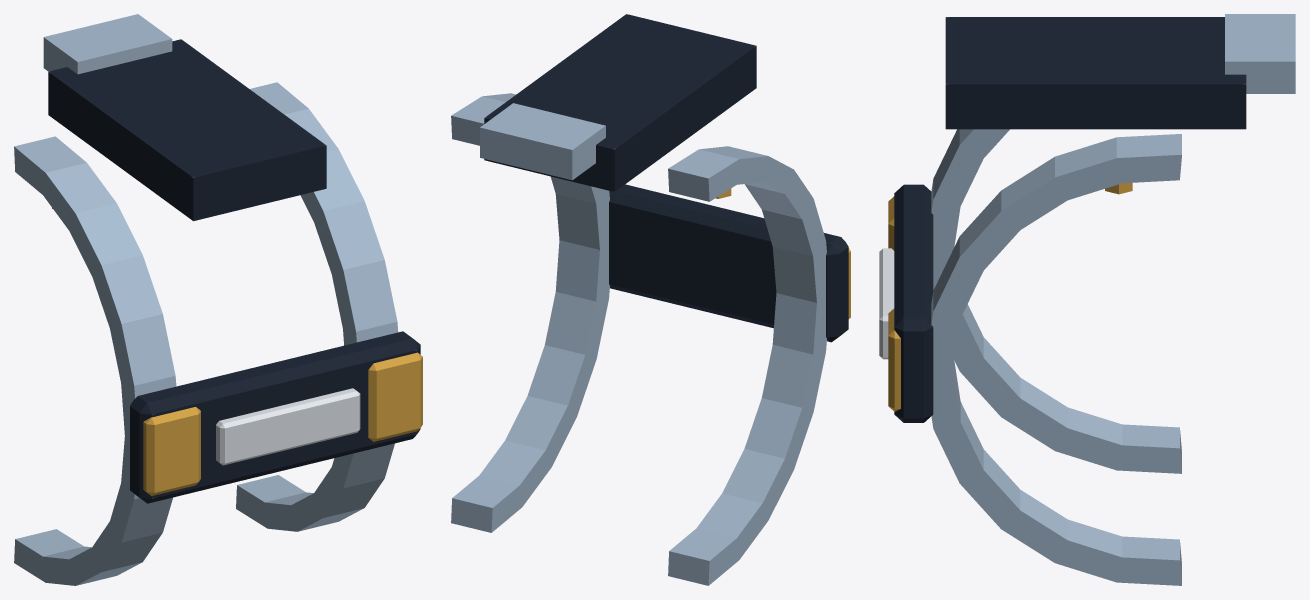
Rendered from pouch.glb.
3 renders of one model, left to right at view 1: azimuth 30°, elevation 25°; view 2: azimuth 150°, elevation 25°; view 3: azimuth 270°, elevation 25°, orthographic. The views are drawn at different scales.
Parts seen in each view (by area): view 1: cage, belt_clip; view 2: cage, belt_clip; view 3: cage, belt_clip.
Boxes of the visible parts, left/top/right/bottom form: cage: left=14, top=82, right=422, bottom=585; belt_clip: left=43, top=14, right=326, bottom=221; cage: left=451, top=93, right=850, bottom=585; belt_clip: left=480, top=14, right=756, bottom=191; cage: left=879, top=129, right=1181, bottom=585; belt_clip: left=945, top=14, right=1295, bottom=129.
Bounding box in the file's own units: 0.19 × 0.3006 × 0.2355.
4 materials, 4 textured.
